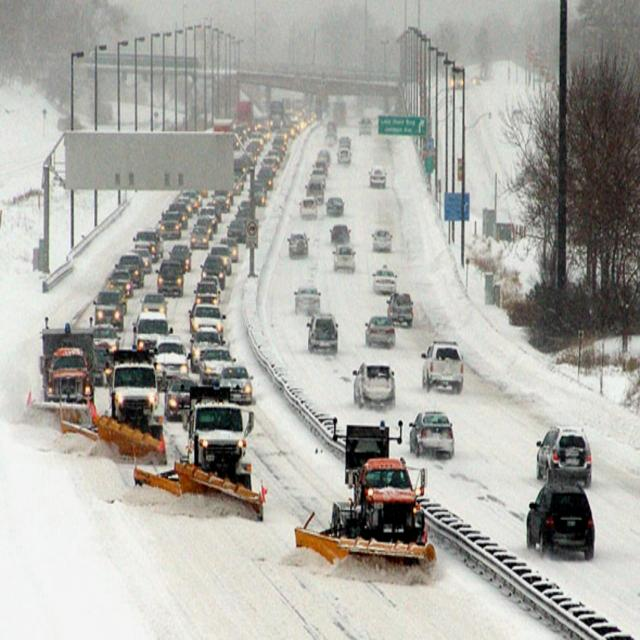Car: (526, 483, 595, 566), (535, 424, 592, 487), (421, 340, 465, 395), (408, 410, 454, 460), (352, 361, 396, 409), (151, 336, 191, 386), (131, 310, 174, 356), (198, 345, 237, 389), (217, 362, 255, 404), (164, 377, 199, 421), (189, 328, 226, 368), (306, 312, 340, 355), (91, 324, 121, 370), (92, 290, 126, 328), (188, 303, 226, 335), (155, 259, 185, 297), (363, 314, 396, 348), (115, 252, 145, 287), (386, 292, 414, 328), (200, 256, 227, 291), (294, 283, 322, 313), (140, 290, 170, 318), (107, 269, 134, 298), (331, 244, 357, 274), (372, 264, 398, 294), (207, 244, 232, 274), (168, 244, 192, 274), (158, 210, 182, 238), (286, 231, 310, 258), (193, 282, 220, 306), (127, 248, 151, 274), (371, 228, 394, 254), (304, 178, 325, 205), (298, 196, 320, 220), (198, 206, 218, 232), (329, 223, 352, 245), (194, 215, 214, 240), (170, 201, 188, 228), (220, 237, 238, 262), (190, 225, 208, 249), (256, 166, 274, 190), (368, 166, 388, 187), (227, 220, 246, 242), (182, 190, 199, 214), (325, 196, 345, 216), (206, 200, 224, 222), (178, 196, 192, 218), (212, 196, 230, 213), (313, 159, 329, 178), (336, 146, 352, 164), (310, 167, 326, 185), (255, 182, 266, 205), (358, 118, 372, 136), (262, 156, 276, 174), (316, 149, 330, 165), (324, 132, 337, 148), (267, 149, 281, 163), (234, 210, 250, 222), (237, 199, 250, 211), (338, 136, 352, 147), (327, 122, 337, 134)
Truck: (294, 411, 436, 581), (132, 383, 265, 523), (58, 346, 167, 464), (21, 317, 100, 430), (235, 99, 253, 127), (270, 99, 284, 130), (332, 101, 346, 125)
